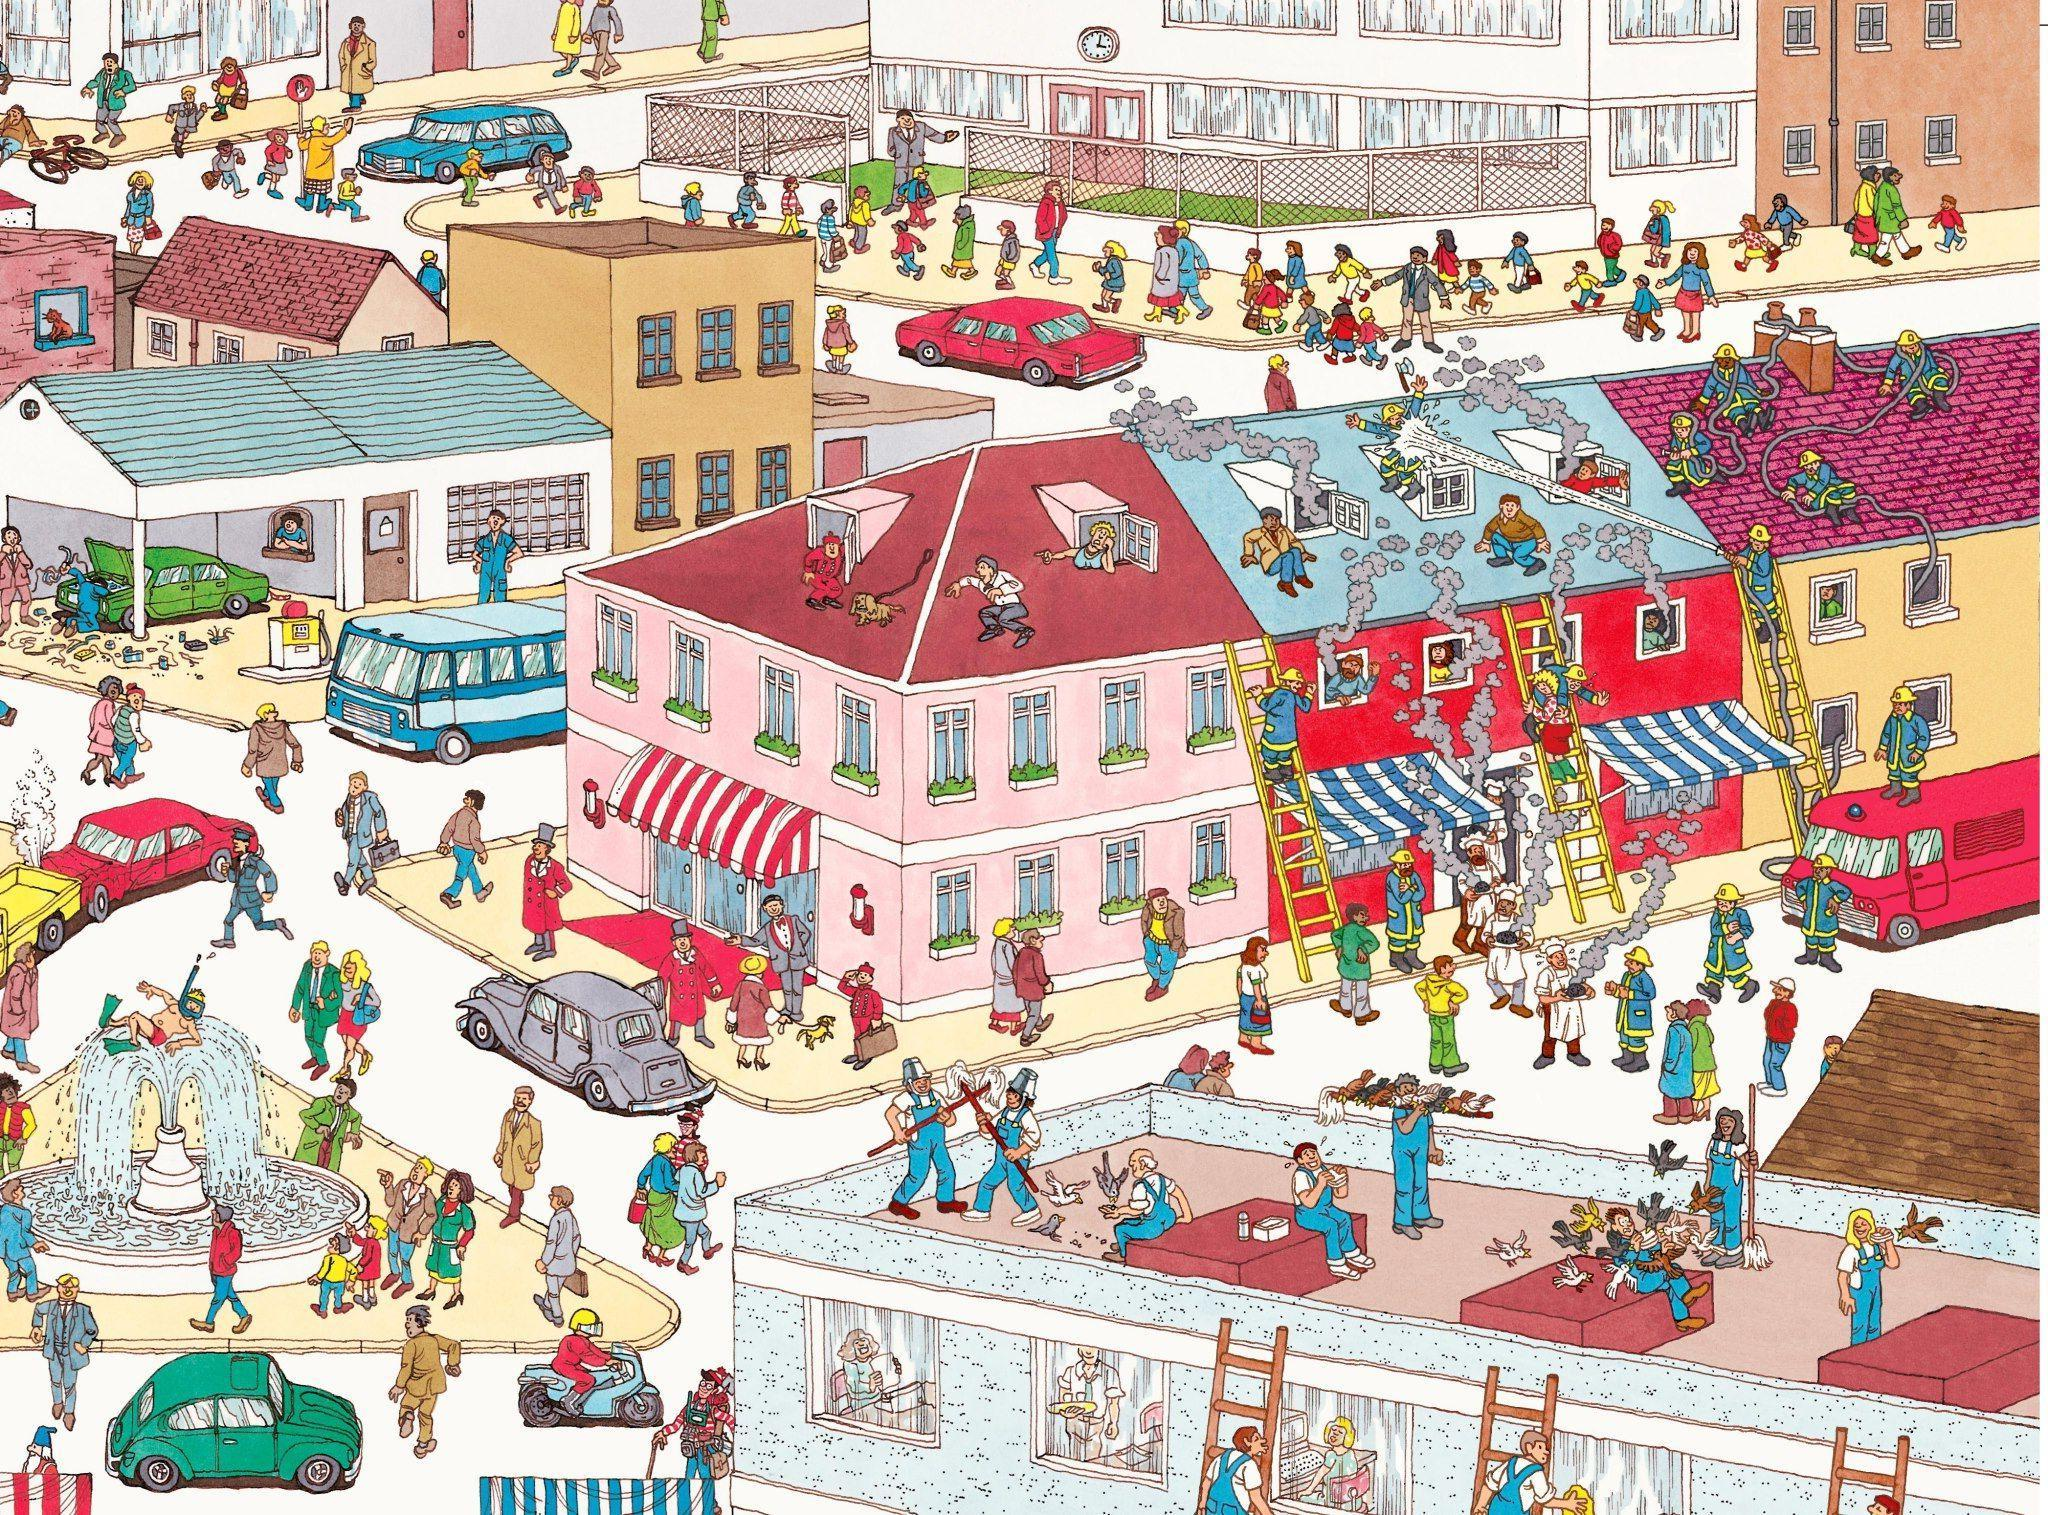waldos: (644, 1369, 734, 1515)
